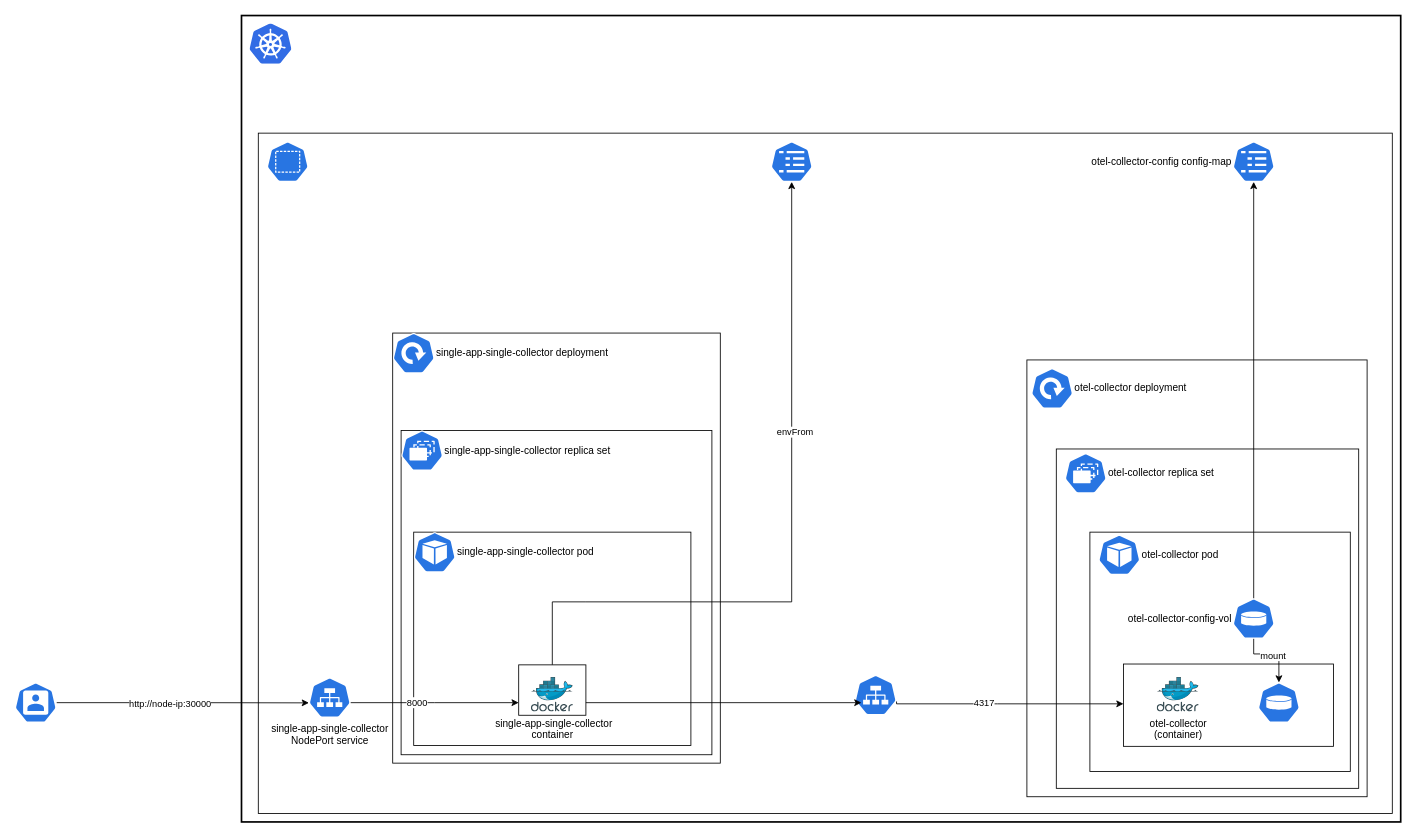
Some shapes in this 1416 by 837 pixel diagram are drawn without their labels. Each missing label, with the centre of its shape:
"/conf" goes at (1278,702).
"Minikube Cluster" goes at (270,44).
"opentelemetry-demo namespace" goes at (287,161).
"otel-collector ClusterIP service" goes at (875,694).
"single-app-single-collector config-map" goes at (791,161).
"user" goes at (35,702).
